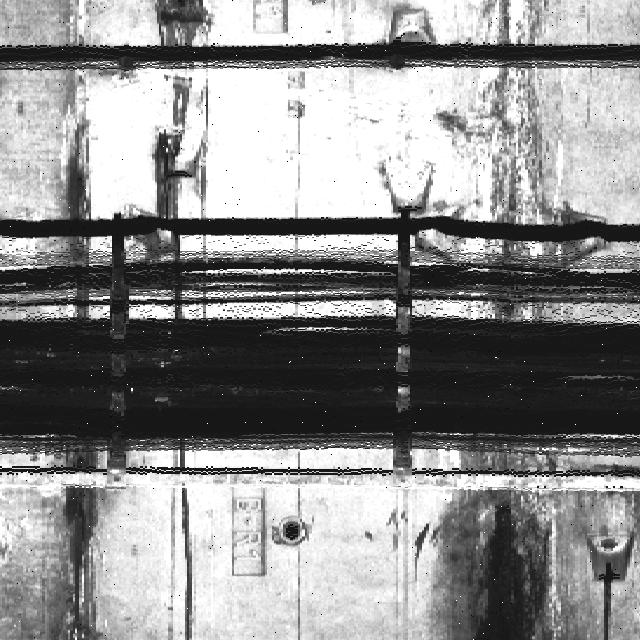leakage: (425, 446, 588, 640), (464, 1, 558, 326), (133, 1, 208, 263), (43, 449, 120, 640), (55, 74, 100, 332)
